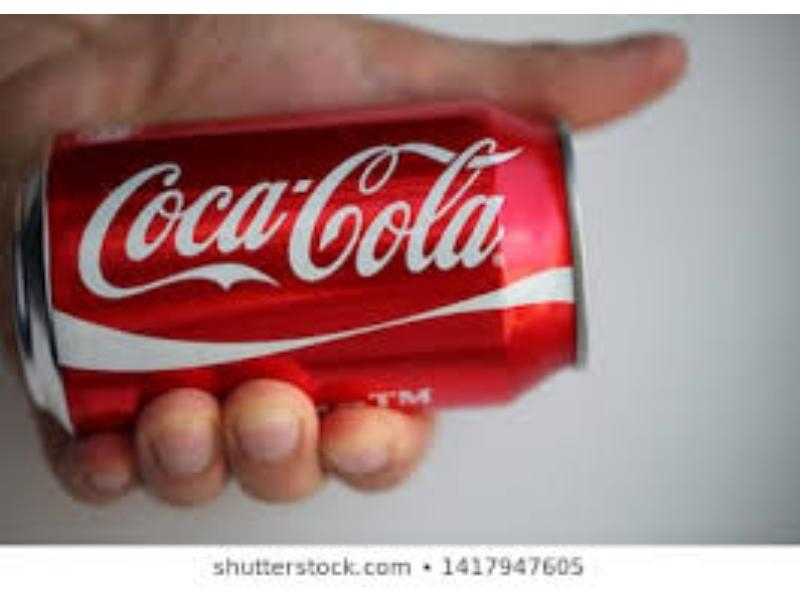can: (14, 102, 599, 445)
